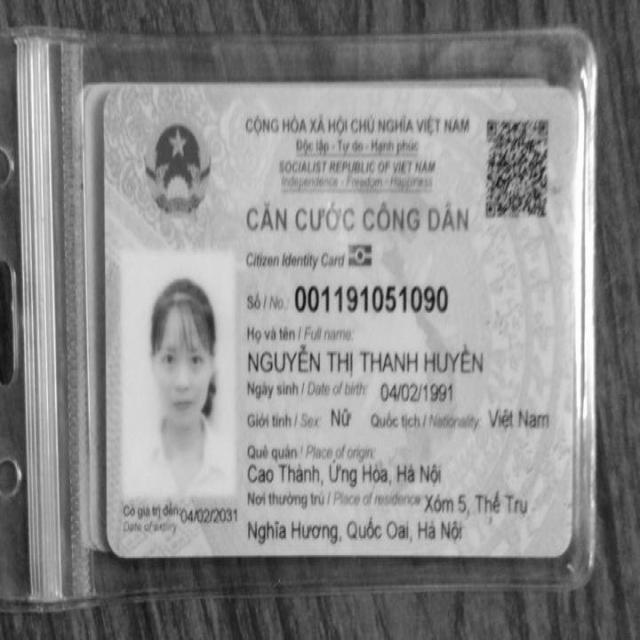bottom_left: (90, 522, 142, 574)
bottom_right: (540, 524, 585, 572)
image_person: (120, 254, 240, 495)
top_left: (94, 78, 132, 124)
top_right: (540, 67, 596, 125)
